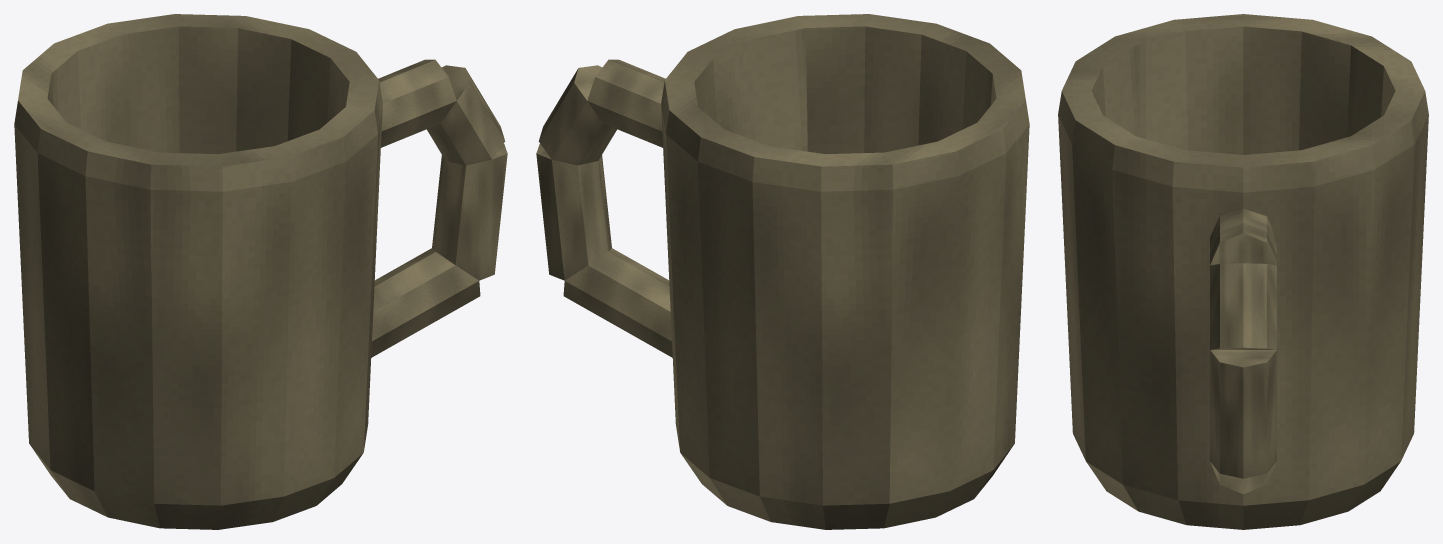
Rendered from level_loose_mug_worn.glb.
3 renders of one model, left to right at view 1: azimuth 30°, elevation 25°; view 2: azimuth 150°, elevation 25°; view 3: azimuth 270°, elevation 25°, orthographic.
Parts seen in each view (by area): view 1: level_loose_mug_worn; view 2: level_loose_mug_worn; view 3: level_loose_mug_worn.
Part boxes in pixels (<box>): level_loose_mug_worn: <box>14,14,507,529</box>; level_loose_mug_worn: <box>536,14,1029,529</box>; level_loose_mug_worn: <box>1058,14,1428,529</box>.
Size of the model in its own units: 0.1449 by 0.112 by 0.1.
Materials: 1 (1 with a texture image).
